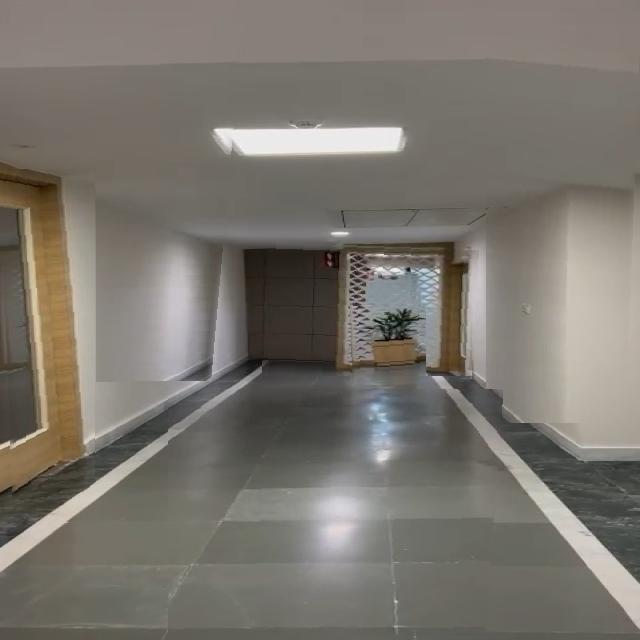door: (0, 169, 95, 499), (262, 242, 479, 376)
floor: (168, 389, 504, 640)
furniture: (350, 306, 426, 384)
wall: (486, 21, 640, 424), (96, 11, 245, 382)
